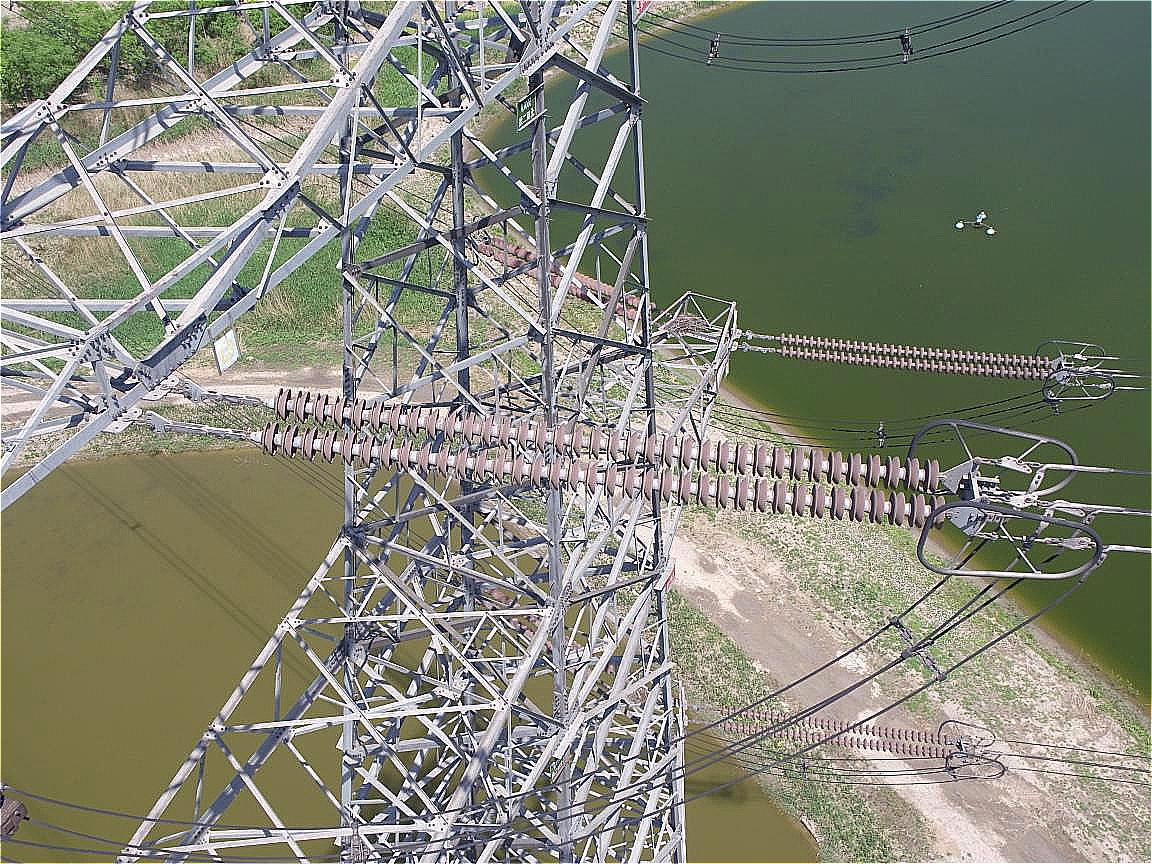insultor1: (776, 321, 1052, 391), (727, 691, 963, 760)
insultor2: (243, 370, 960, 540)
